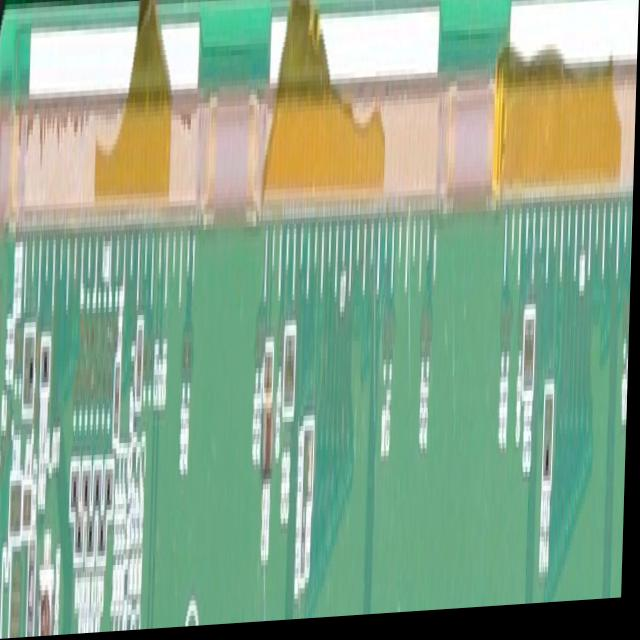capacitor: (517, 303, 527, 464), (263, 407, 279, 489), (11, 465, 26, 538), (11, 405, 25, 475), (286, 330, 292, 415), (310, 430, 317, 501), (117, 364, 123, 438), (138, 333, 144, 400), (530, 332, 536, 397), (526, 322, 531, 398), (292, 340, 297, 411), (267, 356, 275, 393)
resistor: (71, 447, 85, 520), (106, 435, 118, 518), (97, 506, 112, 567), (94, 446, 106, 516), (2, 380, 15, 441), (30, 545, 38, 638), (84, 446, 95, 512), (76, 513, 88, 571), (89, 512, 99, 573), (26, 485, 35, 534), (43, 342, 52, 389), (26, 333, 32, 402), (31, 338, 37, 407), (547, 397, 556, 435), (546, 448, 555, 483), (0, 441, 5, 478)
